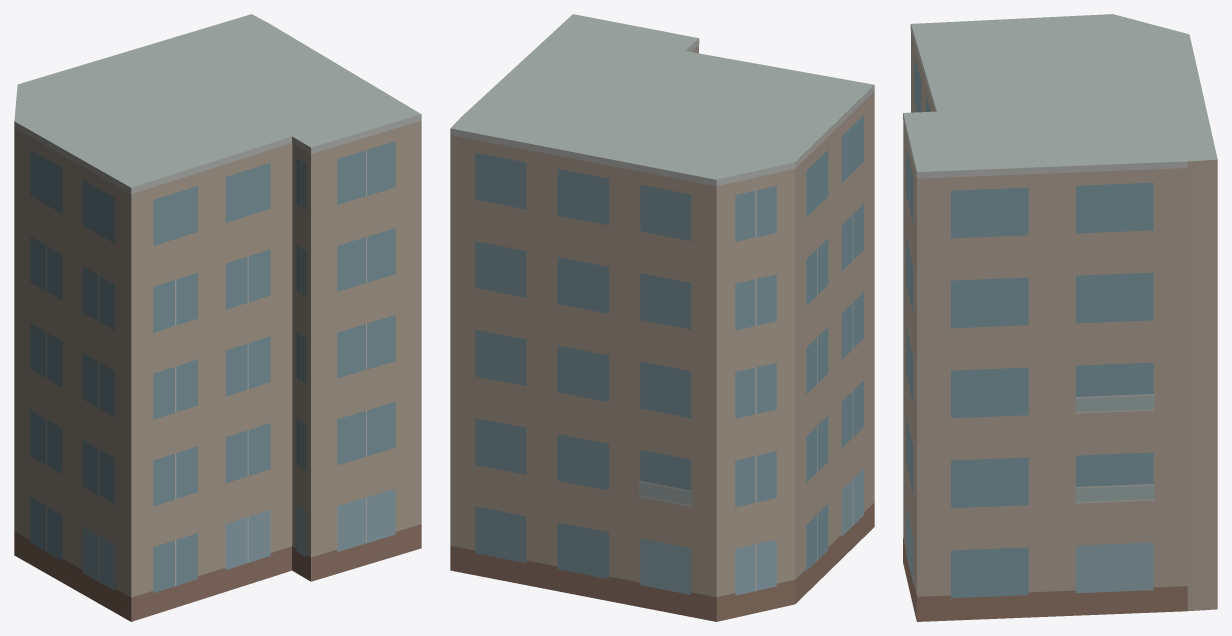
The model's file is survey-upis-32881740.glb.
3 renders of one model, left to right at view 1: azimuth 30°, elevation 25°; view 2: azimuth 150°, elevation 25°; view 3: azimuth 270°, elevation 25°, orthographic. The views are drawn at different scales.
Parts seen in each view (by area): view 1: survey-upis-32881740.tmp; view 2: survey-upis-32881740.tmp; view 3: survey-upis-32881740.tmp.
Boxes of the visible parts, <box> form: survey-upis-32881740.tmp: <box>14,14,421,621</box>; survey-upis-32881740.tmp: <box>450,14,874,621</box>; survey-upis-32881740.tmp: <box>903,14,1217,621</box>.
Bounding box in the file's own units: 12.52 × 16.6 × 10.53.
